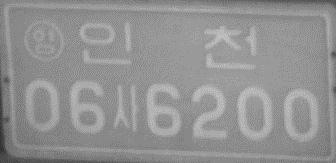0: (281, 87, 321, 144), (235, 86, 274, 142), (23, 79, 60, 133)
2: (189, 84, 228, 139)
6: (69, 78, 106, 135), (145, 82, 182, 138)
사: (111, 82, 141, 132)
영: (23, 19, 64, 64)
인천_D: (79, 20, 259, 72)
